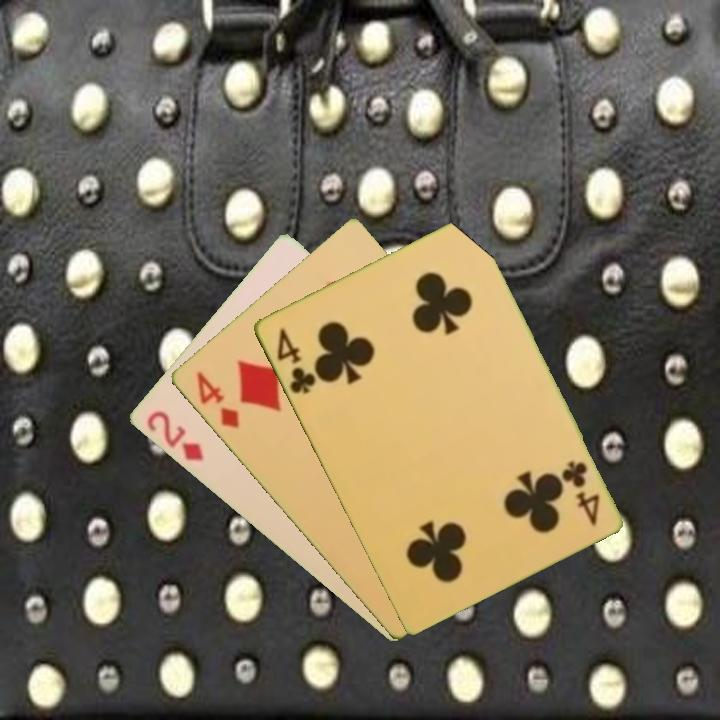2d: (142, 407, 206, 465)
4c: (272, 324, 319, 397), (558, 457, 602, 529)
4d: (192, 367, 242, 432)
